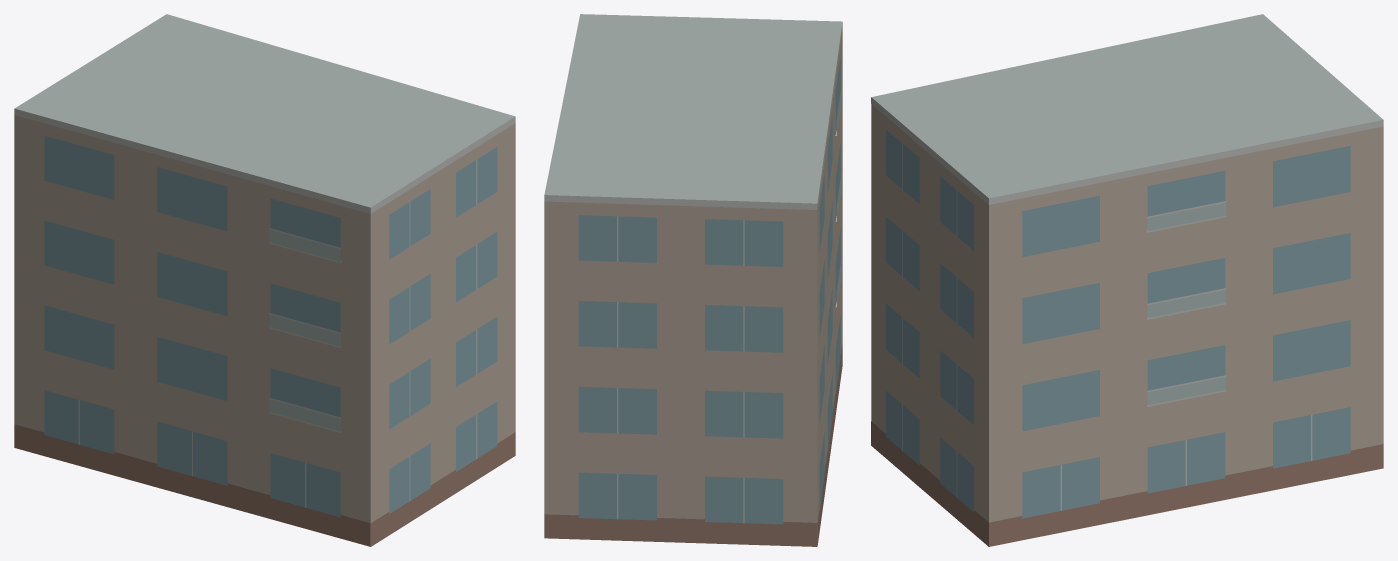
Rendered from survey-upis-32641457.glb.
The picture shows the model from 3 angles, left to right: view 1: azimuth 30°, elevation 25°; view 2: azimuth 150°, elevation 25°; view 3: azimuth 270°, elevation 25°; orthographic projection. The views are drawn at different scales.
Visible parts, largest first — view 1: survey-upis-32641457.tmp; view 2: survey-upis-32641457.tmp; view 3: survey-upis-32641457.tmp.
Boxes of the visible parts, x1,y1,x2,y2 form: survey-upis-32641457.tmp: (14, 14, 515, 546); survey-upis-32641457.tmp: (544, 14, 842, 546); survey-upis-32641457.tmp: (871, 14, 1383, 546).
Bounding box in the file's own units: 14.65 × 12.9 × 17.2.
